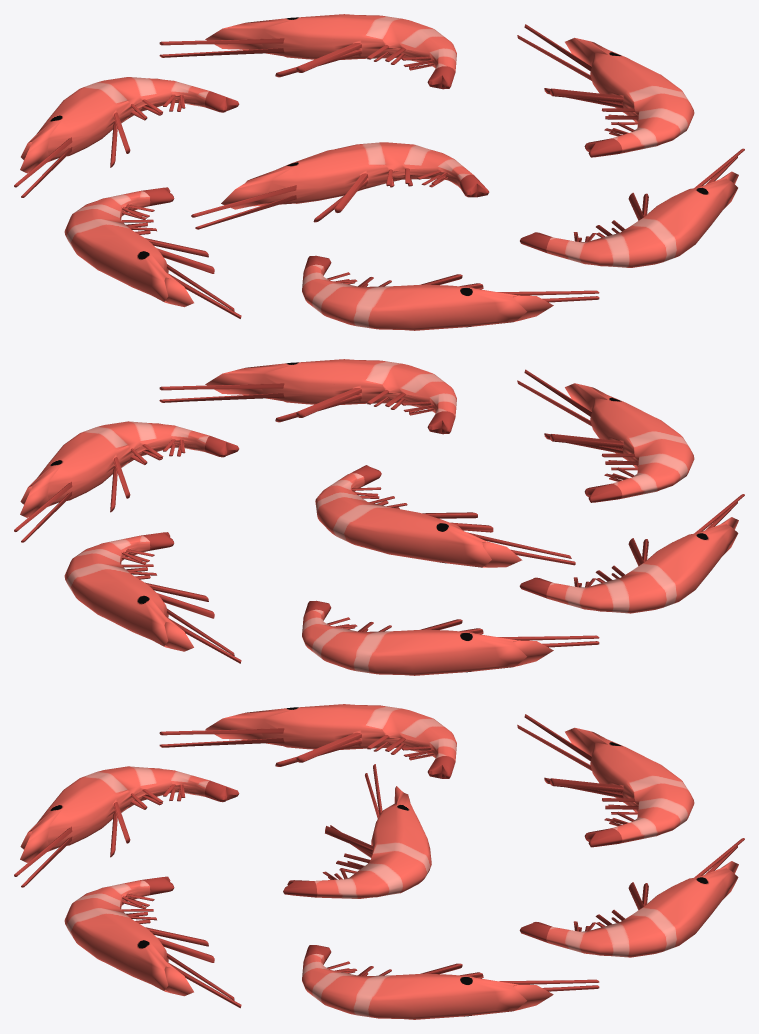
The model's file is ebihalo.fbx.
The picture shows the model from 3 angles, top to bottom: view 1: azimuth 30°, elevation 25°; view 2: azimuth 150°, elevation 25°; view 3: azimuth 270°, elevation 25°; orthographic projection.
Visible parts, largest first — view 1: Shrimp__4_, Shrimp__1_, ShrimpPortable, Shrimp, Shrimp__3_, Shrimp__2_, Shrimp__5_; view 2: Shrimp__2_, Shrimp__5_, ShrimpPortable, Shrimp__4_, Shrimp__1_, Shrimp__3_, Shrimp; view 3: Shrimp, Shrimp__3_, Shrimp__2_, Shrimp__5_, Shrimp__1_, Shrimp__4_, ShrimpPortable.
Part boxes in pixels (x1,y1,x2,y2): Shrimp__4_: [159, 14, 456, 89]; Shrimp__1_: [302, 255, 599, 330]; ShrimpPortable: [191, 142, 489, 229]; Shrimp: [64, 187, 241, 318]; Shrimp__3_: [517, 24, 694, 157]; Shrimp__2_: [520, 148, 744, 267]; Shrimp__5_: [14, 77, 239, 197]; Shrimp__2_: [159, 359, 456, 434]; Shrimp__5_: [302, 600, 599, 675]; ShrimpPortable: [315, 465, 575, 567]; Shrimp__4_: [64, 532, 241, 663]; Shrimp__1_: [517, 369, 694, 502]; Shrimp__3_: [14, 421, 239, 542]; Shrimp: [519, 494, 744, 613]; Shrimp: [159, 704, 456, 778]; Shrimp__3_: [302, 945, 599, 1019]; Shrimp__2_: [64, 876, 241, 1008]; Shrimp__5_: [517, 714, 694, 847]; Shrimp__1_: [14, 766, 239, 887]; Shrimp__4_: [519, 838, 744, 957]; ShrimpPortable: [283, 764, 431, 898].
Size of the model in its own units: 18.8 by 1.15 by 19.56.
